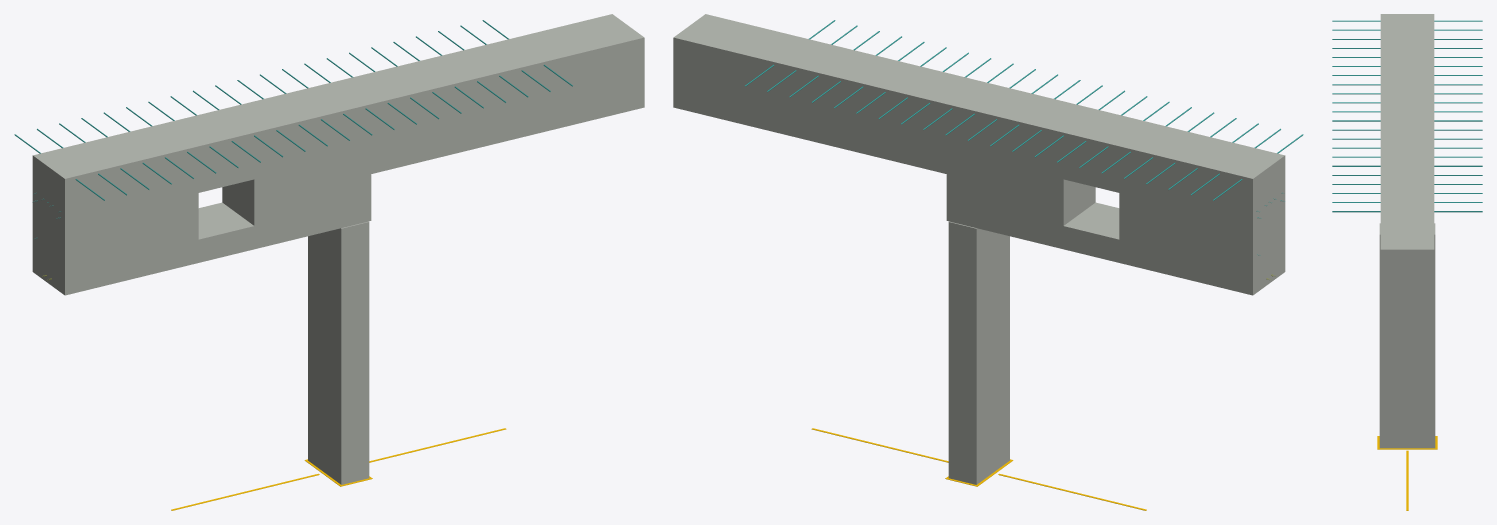
Rendered from unterzug-441-vorortg12.glb.
The picture shows the model from 3 angles, left to right: view 1: azimuth 30°, elevation 25°; view 2: azimuth 150°, elevation 25°; view 3: azimuth 270°, elevation 25°; orthographic projection. The views are drawn at different scales.
Visible parts, largest first — view 1: Beton; view 2: Beton; view 3: Beton, Pos_30_geschaetzt_143, Pos_30_geschaetzt_144, Pos_30_geschaetzt_150, Pos_30_geschaetzt_151, Pos_30_geschaetzt_152, Pos_30_geschaetzt_153, Pos_30_geschaetzt_154, Pos_30_geschaetzt_155, Pos_30_geschaetzt_156, Pos_30_geschaetzt_157, Pos_30_geschaetzt_158 (+2 smaller).
Part boxes in pixels (box(x1,y1,x2,y2)): Beton: box(32, 14, 644, 484); Beton: box(673, 14, 1285, 484); Beton: box(1379, 14, 1435, 448); Pos_30_geschaetzt_143: box(1332, 20, 1482, 21); Pos_30_geschaetzt_144: box(1332, 29, 1482, 30); Pos_30_geschaetzt_150: box(1332, 84, 1482, 85); Pos_30_geschaetzt_151: box(1332, 93, 1482, 94); Pos_30_geschaetzt_152: box(1332, 102, 1482, 103); Pos_30_geschaetzt_153: box(1332, 111, 1482, 112); Pos_30_geschaetzt_154: box(1332, 120, 1482, 121); Pos_30_geschaetzt_155: box(1332, 129, 1482, 130); Pos_30_geschaetzt_156: box(1332, 138, 1482, 139); Pos_30_geschaetzt_157: box(1332, 147, 1482, 148); Pos_30_geschaetzt_158: box(1332, 156, 1482, 157).
Size of the model in its own units: 5.25 by 3.2 by 1.4.
